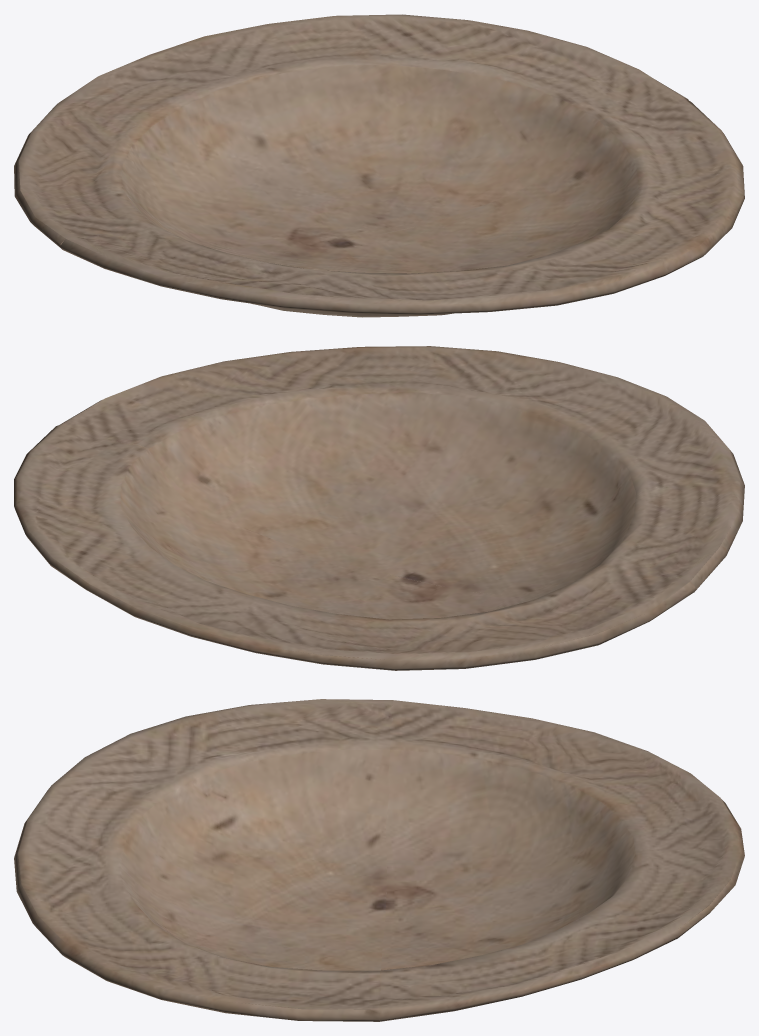
Rendered from plate.glb.
3 renders of one model, top to bottom at view 1: azimuth 30°, elevation 25°; view 2: azimuth 150°, elevation 25°; view 3: azimuth 270°, elevation 25°, orthographic. The views are drawn at different scales.
Visible parts, largest first — view 1: carved_wooden_plate; view 2: carved_wooden_plate; view 3: carved_wooden_plate.
Boxes of the visible parts, x1,y1,x2,y2 form: carved_wooden_plate: (14, 14, 744, 317); carved_wooden_plate: (14, 346, 744, 670); carved_wooden_plate: (14, 699, 744, 1021).
Bounding box in the file's own units: 0.2721 × 0.0383 × 0.2689.
Materials: 1 (1 with a texture image).
